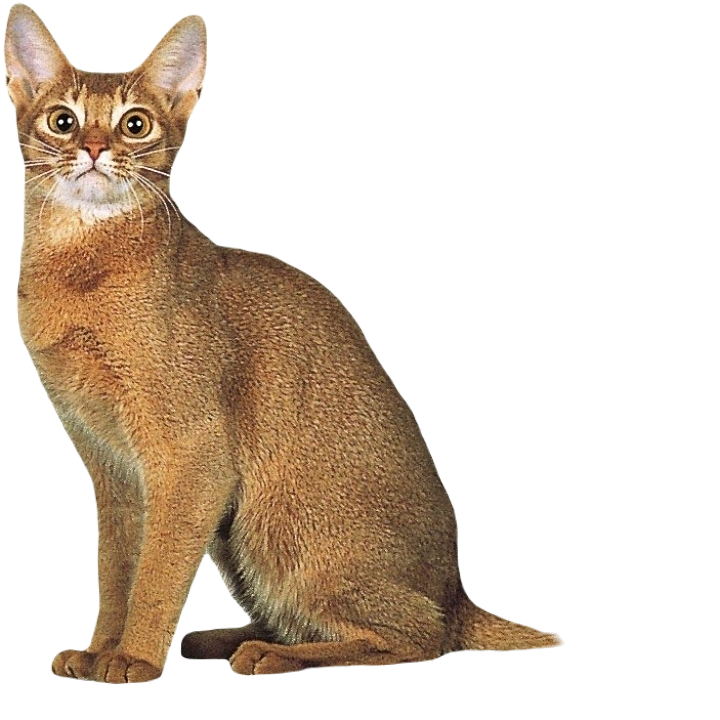Cat: (2, 3, 572, 686)
